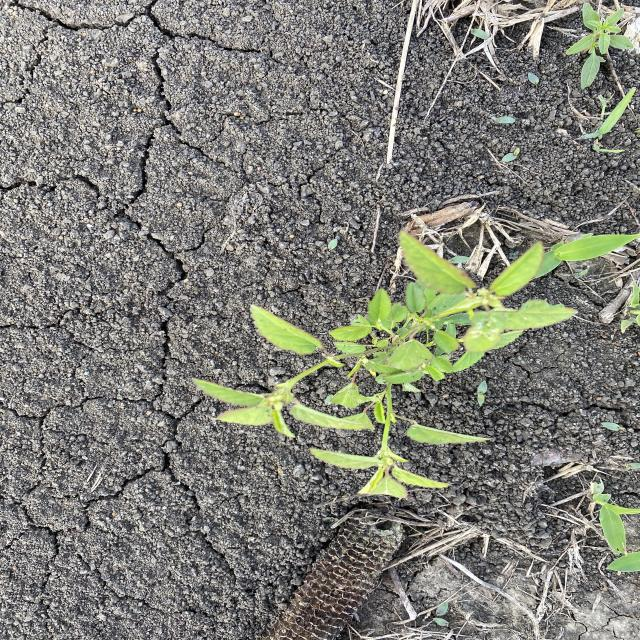PricklySida: (188, 229, 580, 500)
Waterhemp: (560, 2, 638, 89)
